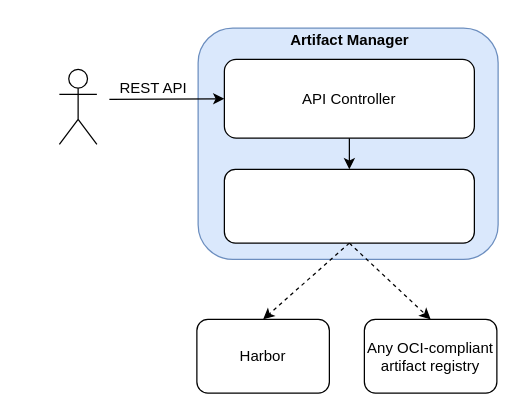
The diagram is 520 pixels wide and 415 high, and some of its shapes have lost their labels. Each missing label, with the centre of its shape:
Skopeo Client: pixel 348 205
User / Consumer: pixel 77 106
